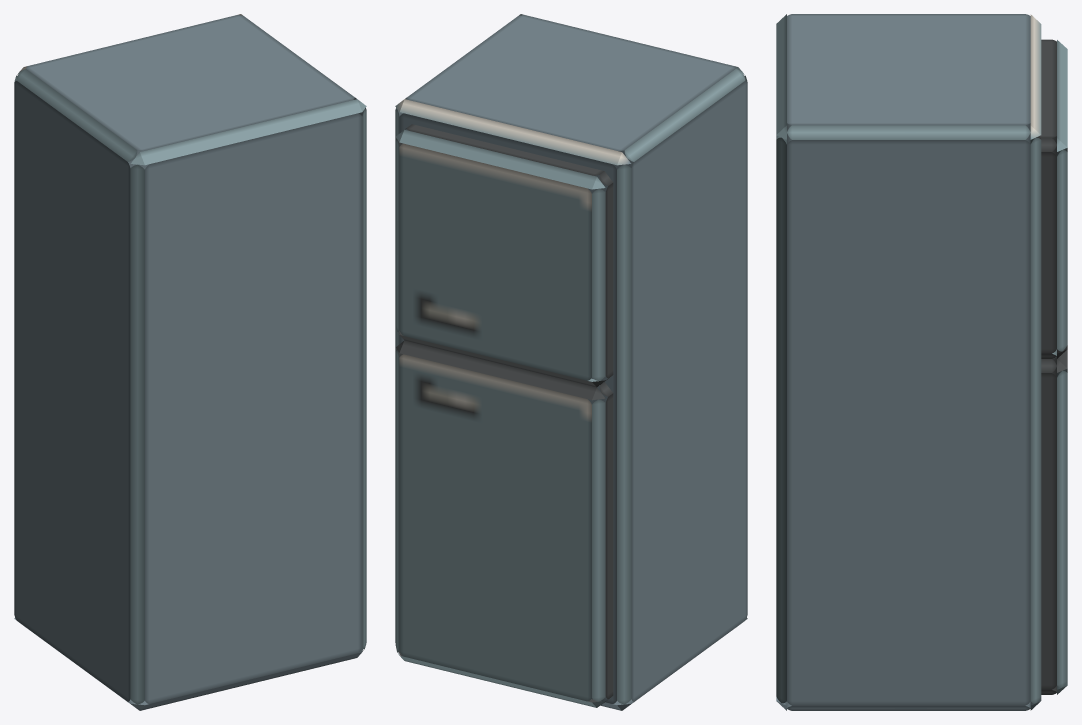
File: Fridge.fbx
The picture shows the model from 3 angles, left to right: view 1: azimuth 30°, elevation 25°; view 2: azimuth 150°, elevation 25°; view 3: azimuth 270°, elevation 25°; orthographic projection. The views are drawn at different scales.
Visible parts, largest first — view 1: base; view 2: base; view 3: base.
Boxes of the visible parts, x1,y1,x2,y2 form: base: (14, 14, 366, 710); base: (395, 14, 747, 710); base: (776, 14, 1067, 710).
Size of the model in its own units: 106 by 240 by 108.
